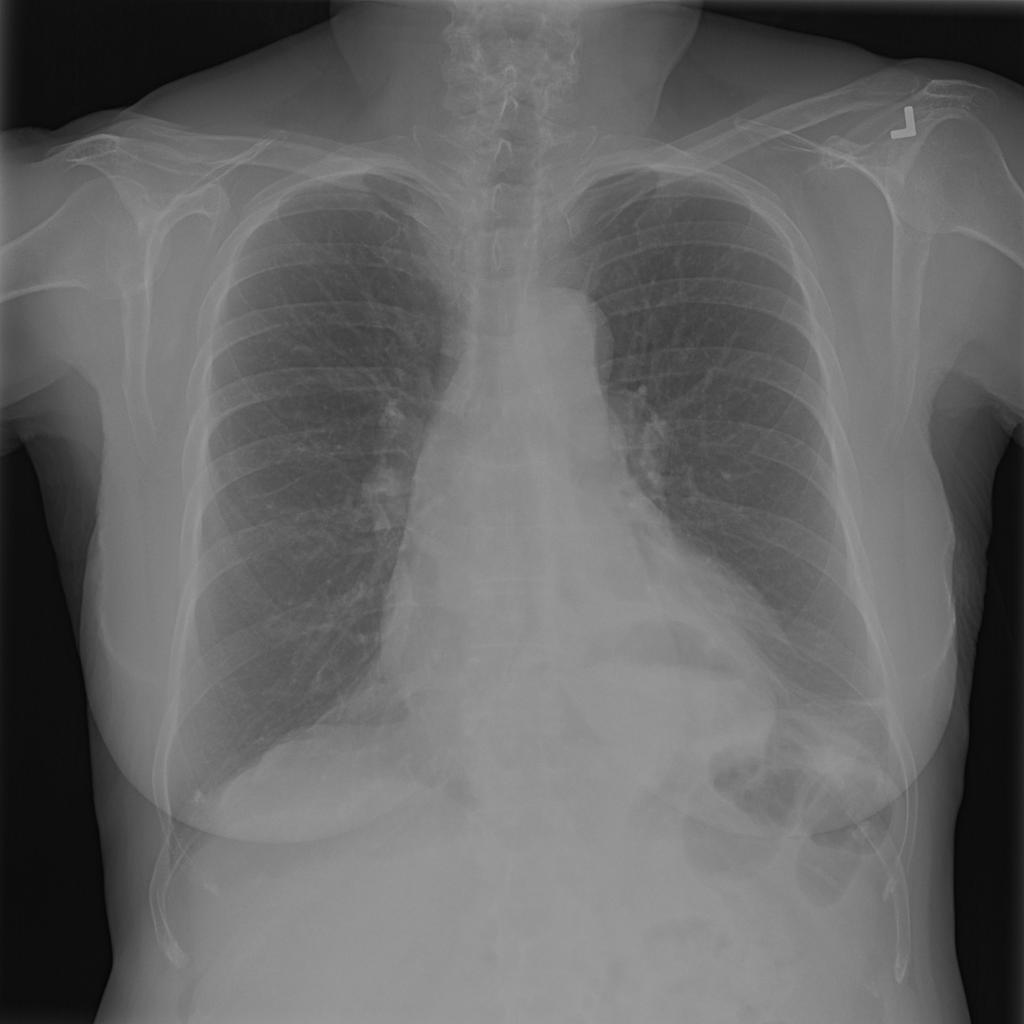nodule: (187, 781, 212, 804)
